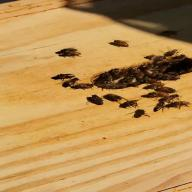Bee: (47, 69, 83, 83), (51, 46, 86, 60), (157, 96, 187, 110), (128, 107, 152, 121), (85, 93, 109, 106), (100, 93, 126, 103), (105, 38, 130, 48)
